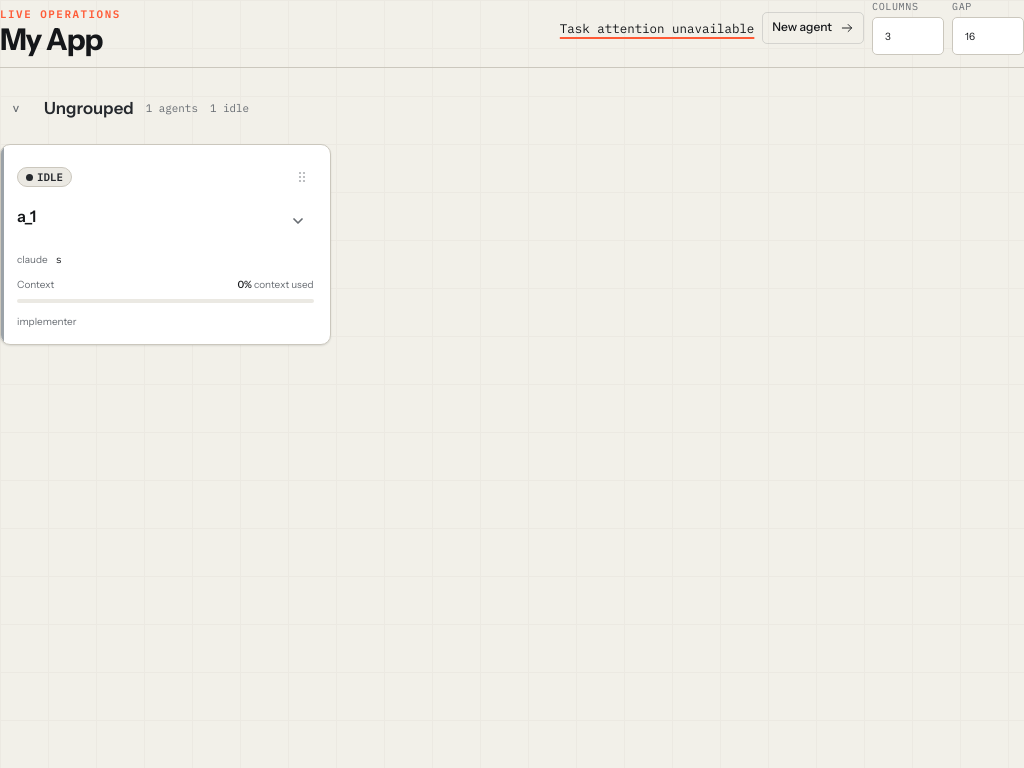
Test case: CardGrid › keeps the Project picker when no fixedProject is supplied
Click the button "New agent": (813, 28) [762, 12, 864, 44]
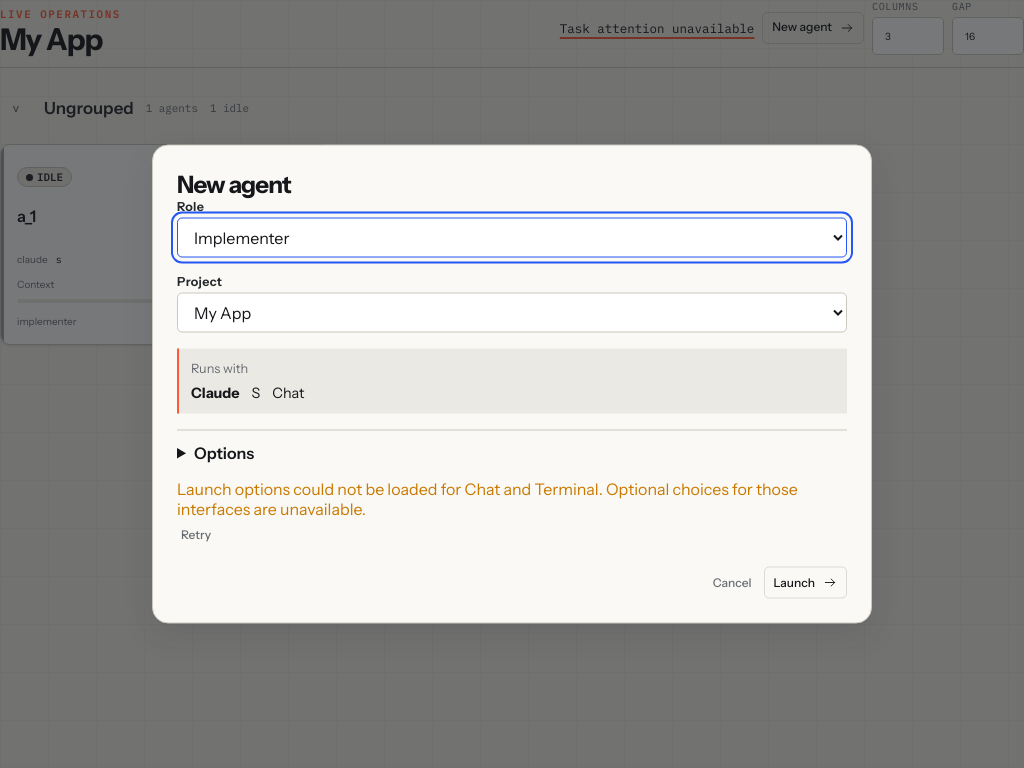
Result: the text "Project" is shown at [177, 274, 222, 288]
